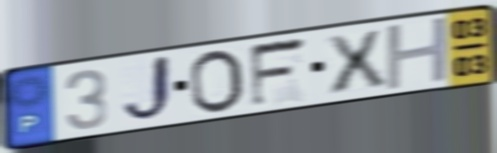3: (63, 67, 109, 131)
F: (247, 34, 311, 112)
H: (383, 13, 453, 94)
J: (118, 52, 175, 126)
O: (187, 48, 247, 117)
X: (322, 27, 391, 97)
